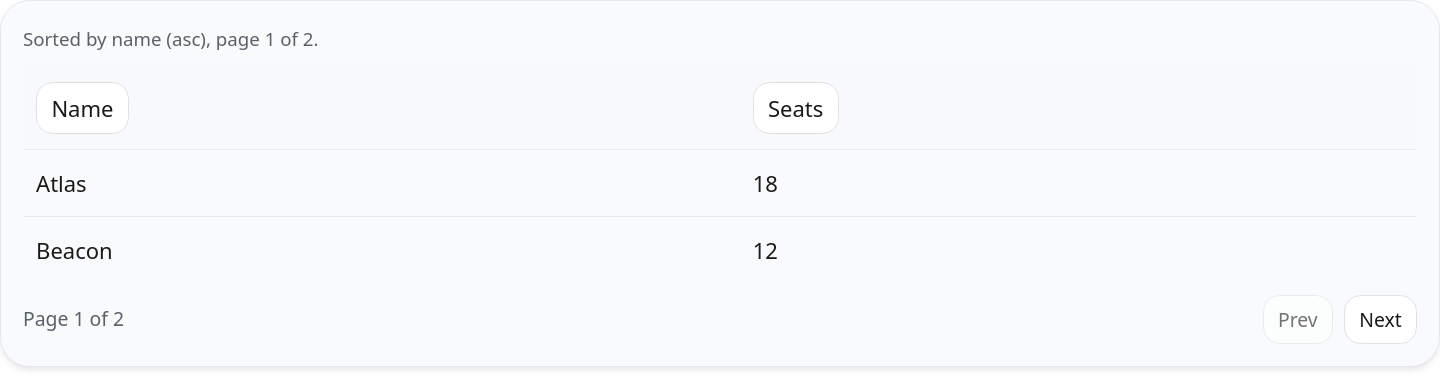
Test: TableSortingPaginationDemo › reflects the active page in the URL and resets pagination when the sort key changes
This screenshot has width=1440, height=388.
Click the button "Next" at (1380, 320), box [1344,295,1417,344]
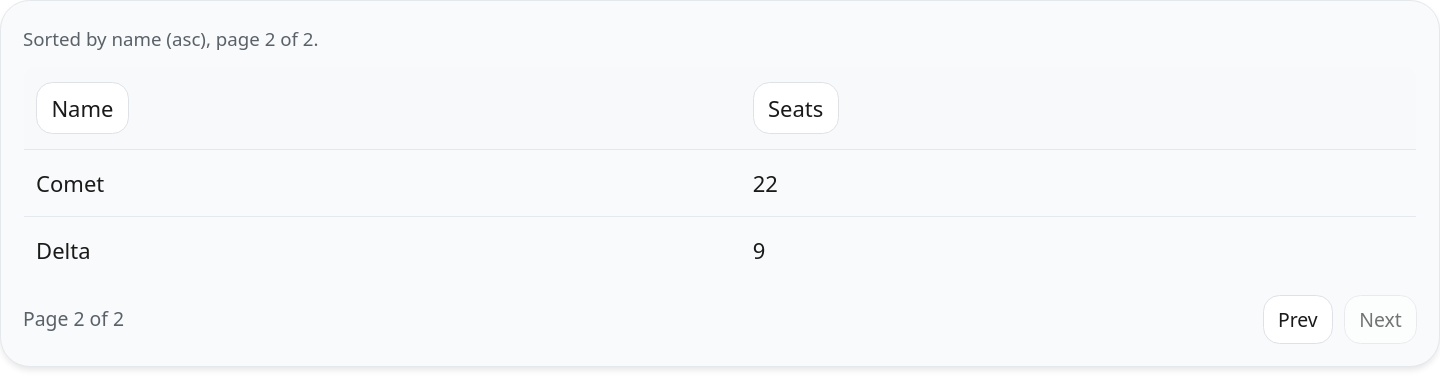
Check: the button "Prev" is enabled, box [1263,295,1333,344]
Check: the button "Next" is disabled, box [1344,295,1417,344]
Click the button with aria-label "Sort by seats" at (796, 108), box [753,82,839,134]
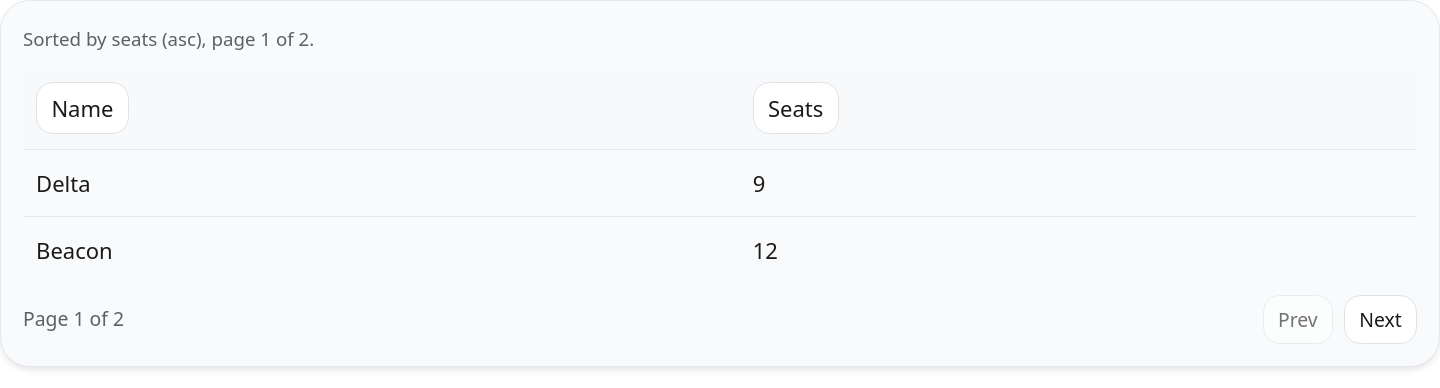
Check: the button "Prev" is disabled, box [1263,295,1333,344]
Check: the button "Next" is enabled, box [1344,295,1417,344]
